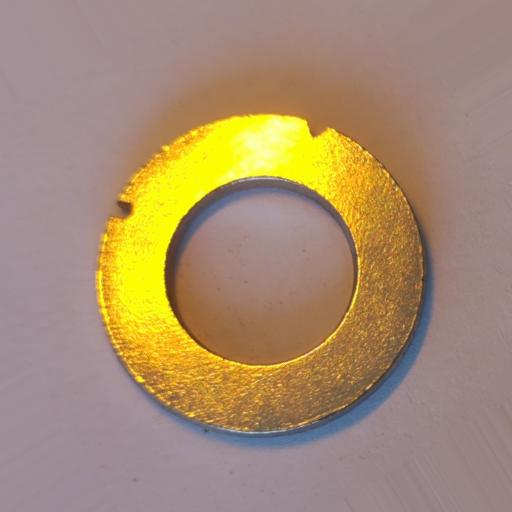burr: (305, 117, 329, 139), (112, 201, 132, 220)
